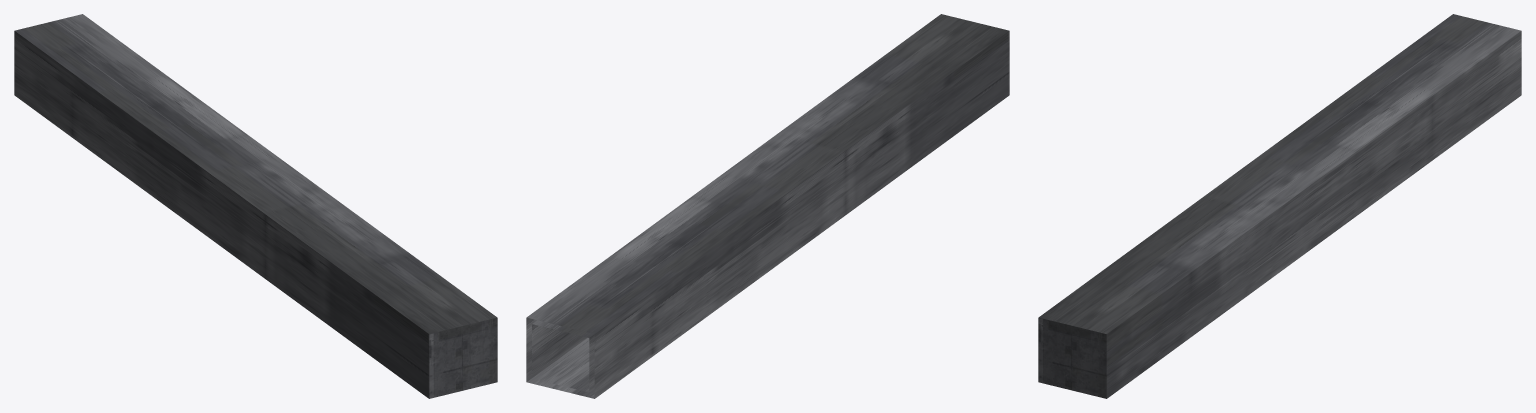
The model's file is DarkHallway 1.fbx.
3 renders of one model, left to right at view 1: azimuth 30°, elevation 25°; view 2: azimuth 150°, elevation 25°; view 3: azimuth 330°, elevation 25°, orthographic.
Visible parts, largest first — view 1: Cube.041; view 2: Cube.041; view 3: Cube.041.
Boxes of the visible parts, x1,y1,x2,y2 form: Cube.041: (14, 14, 497, 398); Cube.041: (526, 14, 1009, 398); Cube.041: (1038, 14, 1521, 398).
Bounding box in the file's own units: 185 × 168 × 1945.
